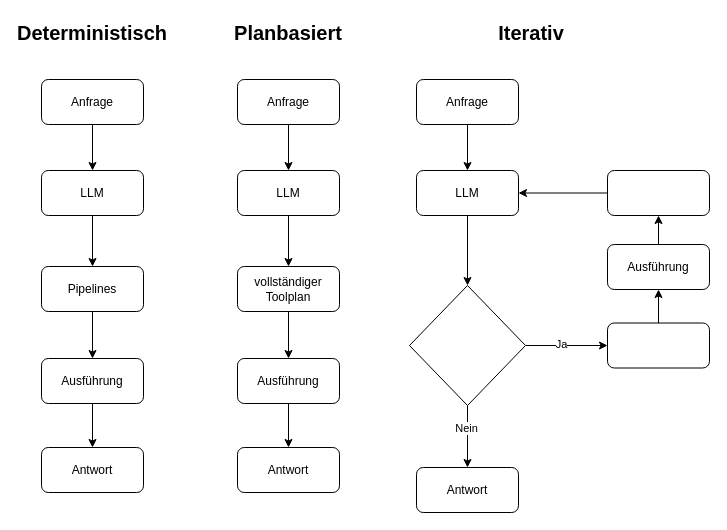
Image size: 727x530. Some labels were removed from this diagram. The centre of each missing label's shape, as x and y in pixels:
Ergebnisse: pixel 658 193
Tool Calls: pixel 658 345
Tool Calls notwendig?: pixel 467 345
